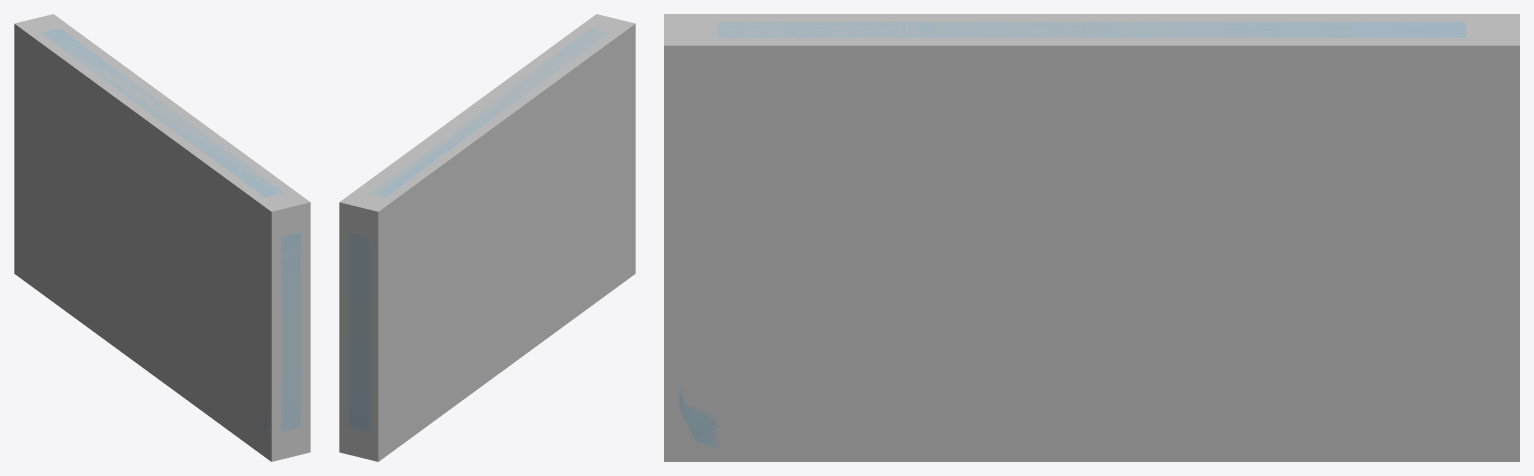
File: SM_Interior_Sign.fbx
3 views of the same model, side by side, from view 1: azimuth 30°, elevation 25°; view 2: azimuth 150°, elevation 25°; view 3: azimuth 270°, elevation 25° (orthographic). The views are drawn at different scales.
Visible parts, largest first — view 1: SM_Interior_Sign_ConvexHulls, SM_Interior_Sign; view 2: SM_Interior_Sign_ConvexHulls, SM_Interior_Sign; view 3: SM_Interior_Sign_ConvexHulls, SM_Interior_Sign.
Boxes of the visible parts, <box> form: SM_Interior_Sign_ConvexHulls: <box>14,14,310,461</box>; SM_Interior_Sign: <box>41,28,300,434</box>; SM_Interior_Sign_ConvexHulls: <box>339,14,635,461</box>; SM_Interior_Sign: <box>349,28,626,431</box>; SM_Interior_Sign_ConvexHulls: <box>664,14,1519,461</box>; SM_Interior_Sign: <box>679,22,1465,448</box>.
Bounding box in the file's own units: 20.16 × 229 × 123.
Materials: 2 (1 with a texture image).
